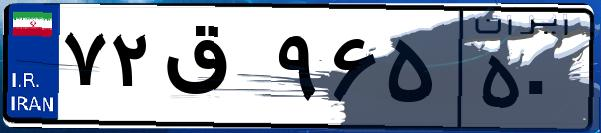0: (525, 38, 570, 115)
2: (110, 28, 158, 98)
5: (385, 28, 445, 110), (475, 38, 525, 113)
6: (330, 28, 385, 110)
7: (57, 26, 110, 100)
9: (270, 28, 330, 110)
ق: (158, 20, 270, 120)
